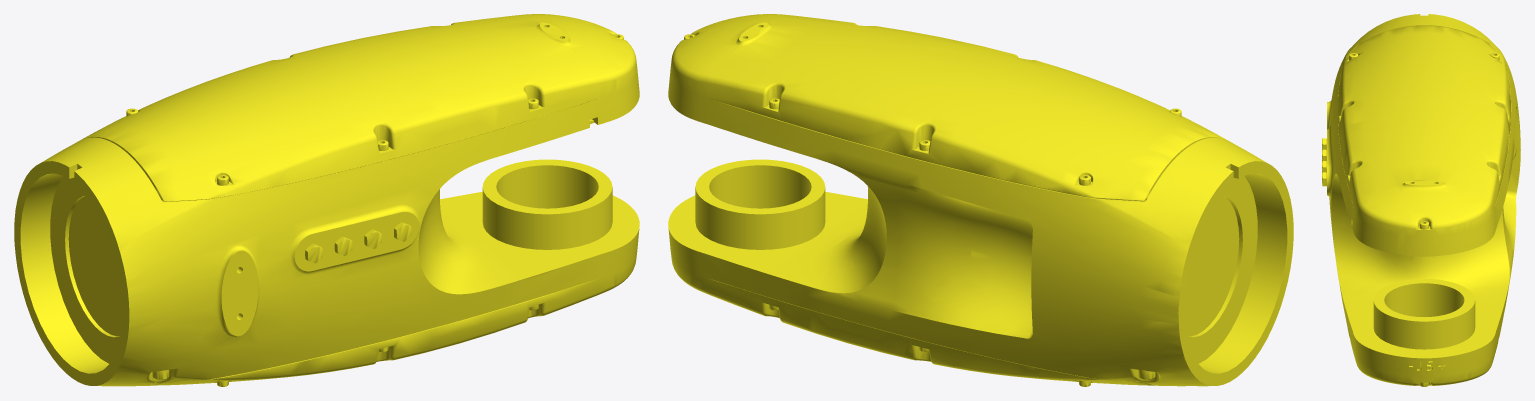
3 renders of one model, left to right at view 1: azimuth 30°, elevation 25°; view 2: azimuth 150°, elevation 25°; view 3: azimuth 270°, elevation 25°, orthographic. The views are drawn at different scales.
Parts seen in each view (by area): view 1: /Link4/Link4_003-mesh/0; view 2: /Link4/Link4_003-mesh/0; view 3: /Link4/Link4_003-mesh/0.
Boxes of the visible parts, box(x1,y1,x2,y2) form: /Link4/Link4_003-mesh/0: box(14, 14, 639, 386); /Link4/Link4_003-mesh/0: box(668, 14, 1293, 386); /Link4/Link4_003-mesh/0: box(1322, 14, 1520, 386).
Size of the model in its own units: 0.3751 by 0.171 by 0.1486.
